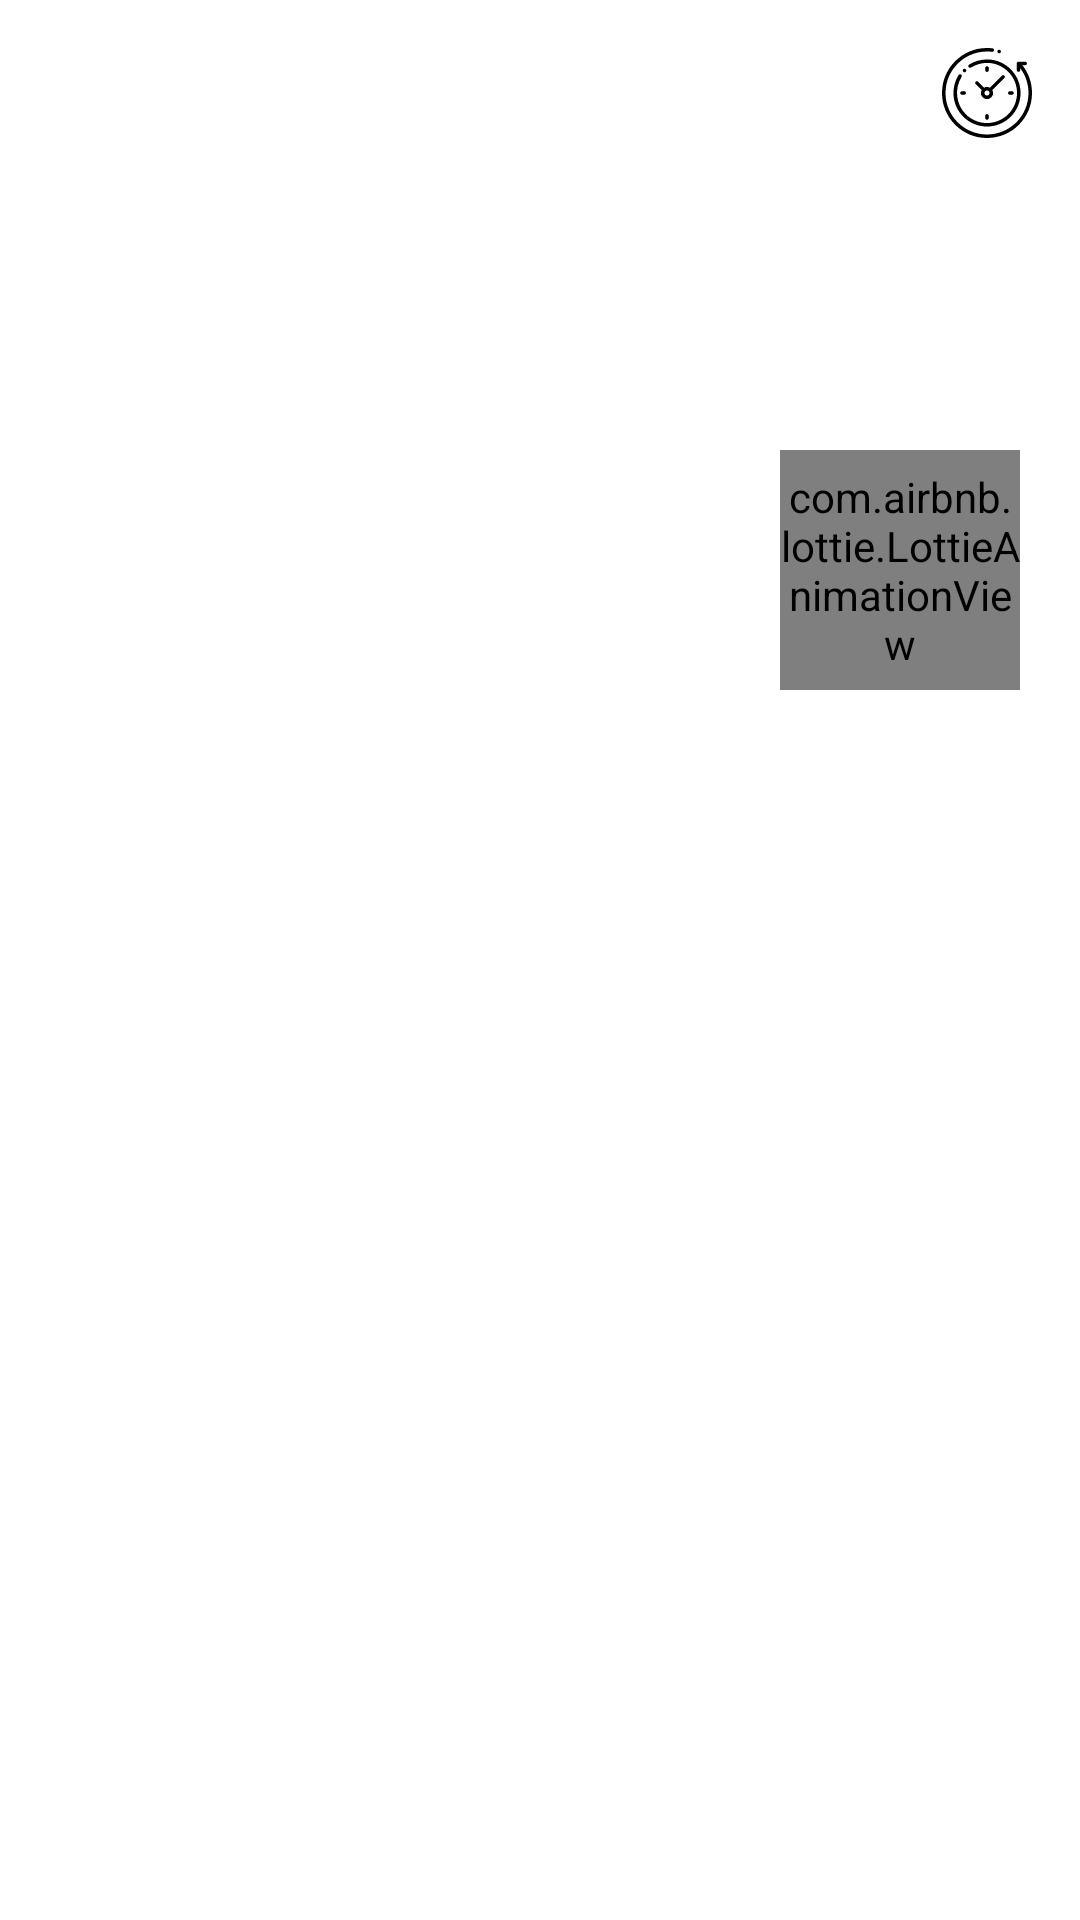

Where icons sit on this 1080 x 1920 app screen, as (x1, y1, x2, y2):
hourly: (942, 48, 1032, 138)
